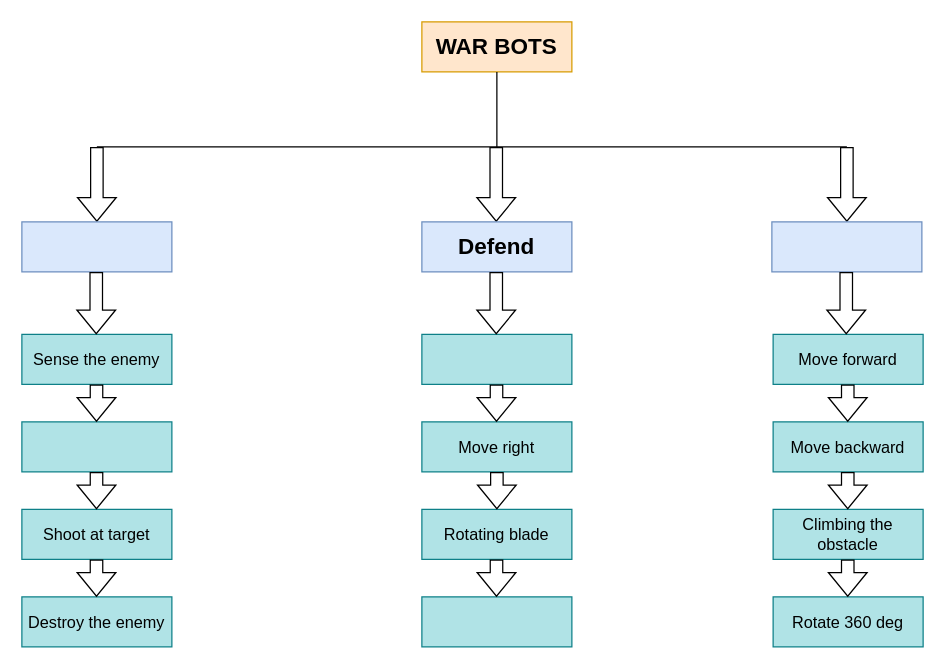
Image size: 945x669. Some labels were removed from this diagram. Each missing label, with the box of its shape:
Aim in the direction of enemy: (21, 421, 172, 472)
Fight: (21, 221, 172, 272)
Fliping the enemy: (421, 596, 572, 647)
Move left: (421, 333, 572, 384)
Movement: (771, 221, 922, 272)
